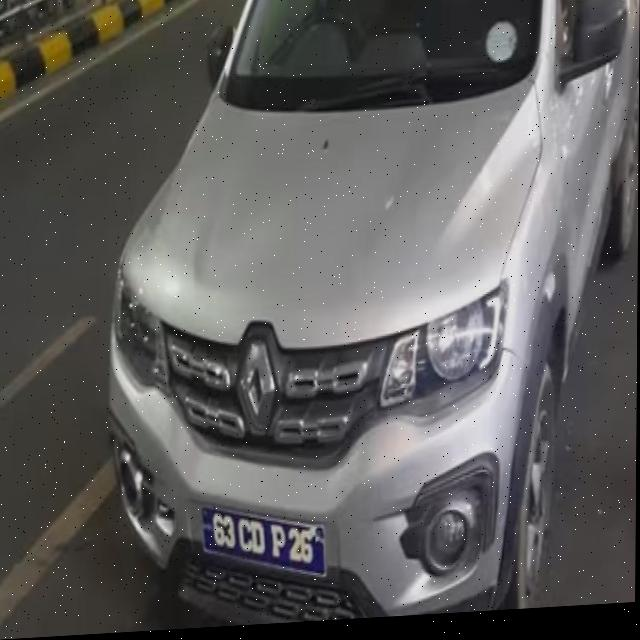plate: (199, 501, 329, 586)
